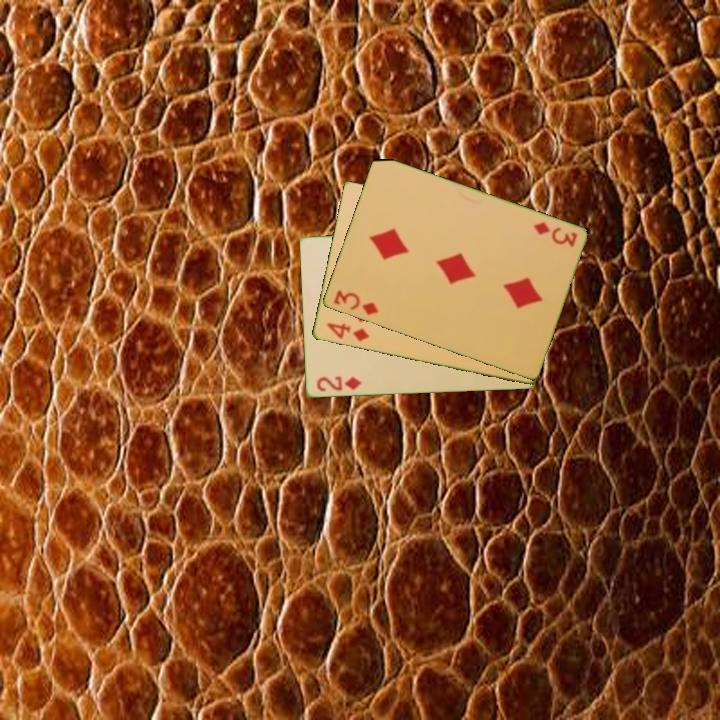2d: (313, 373, 364, 394)
3d: (530, 218, 580, 251), (330, 286, 381, 318)
4d: (323, 319, 372, 344)
